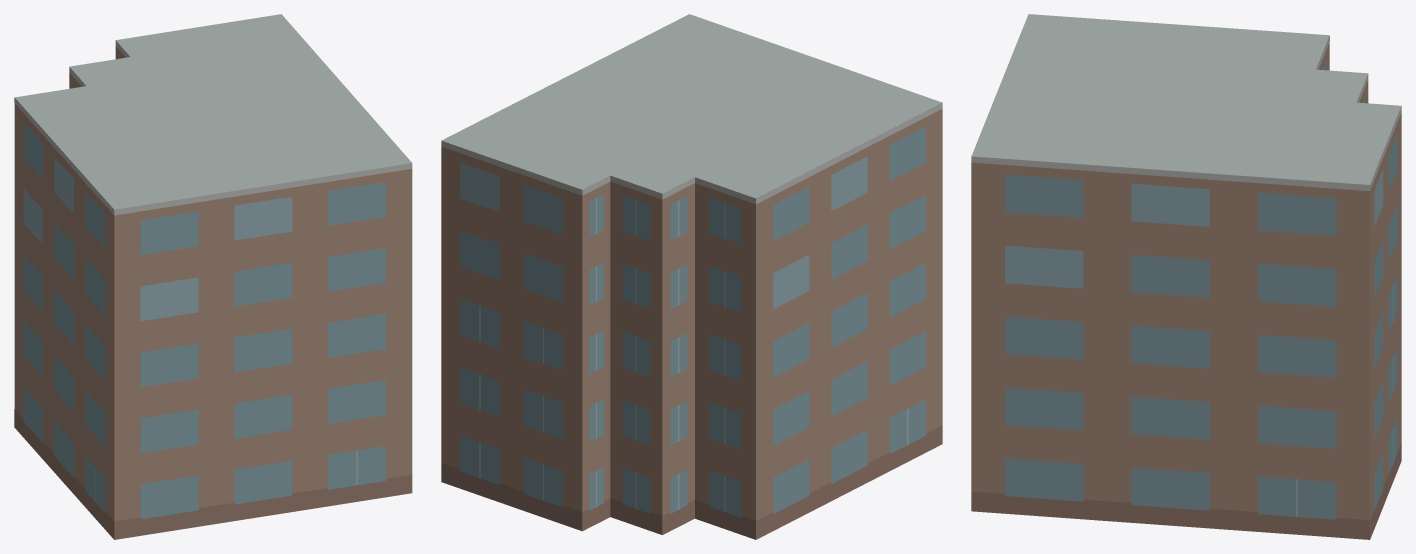
Rendered from survey-upis-32679684.glb.
3 views of the same model, side by side, from view 1: azimuth 30°, elevation 25°; view 2: azimuth 150°, elevation 25°; view 3: azimuth 270°, elevation 25° (orthographic). The views are drawn at different scales.
Parts seen in each view (by area): view 1: survey-upis-32679684.tmp; view 2: survey-upis-32679684.tmp; view 3: survey-upis-32679684.tmp.
Part boxes in pixels (x1,y1,x2,y2): survey-upis-32679684.tmp: [14, 14, 412, 539]; survey-upis-32679684.tmp: [441, 14, 942, 539]; survey-upis-32679684.tmp: [971, 14, 1401, 539].
Bounding box in the file's own units: 14.58 × 14.1 × 15.51.
